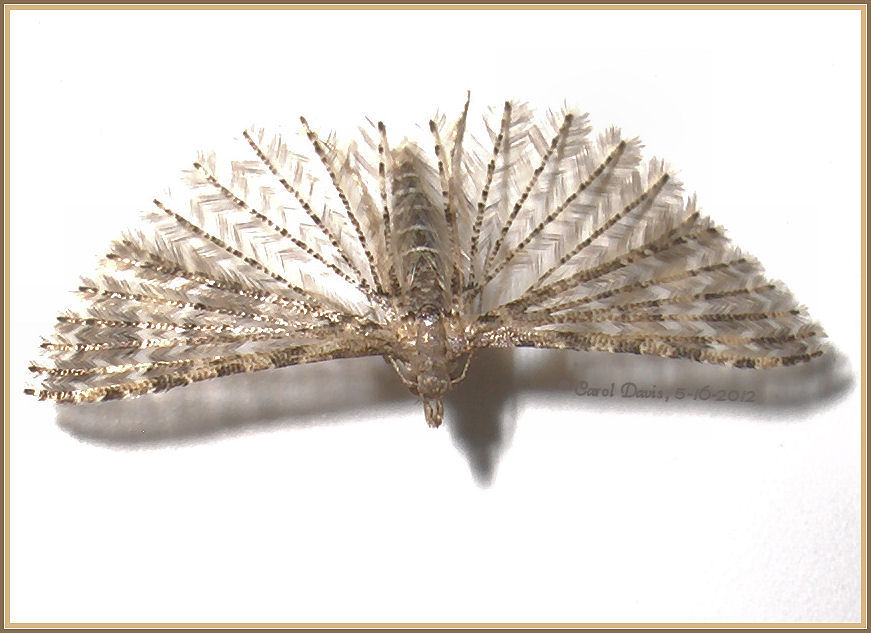Alucitidae: (17, 86, 836, 437)
moth: (19, 88, 838, 439)
